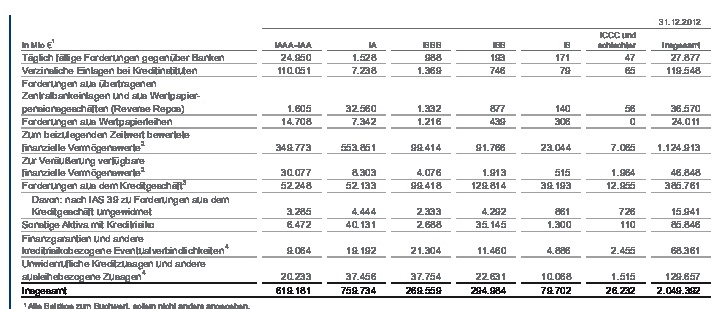table: (0, 0, 728, 309)
